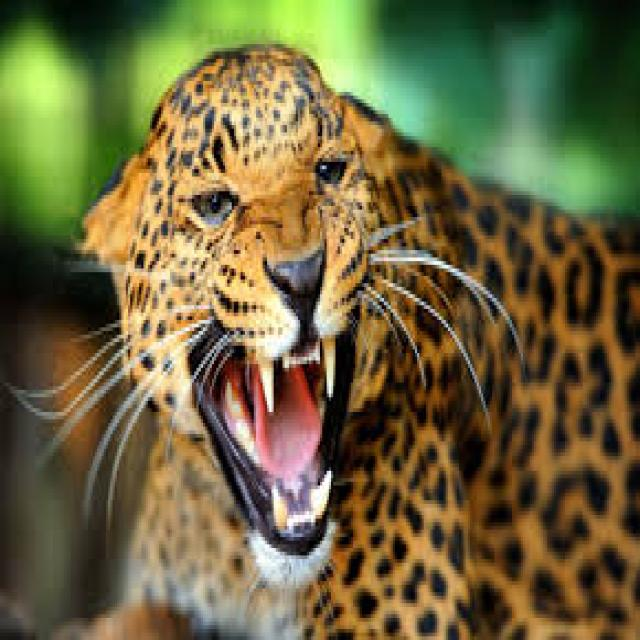Jaguar: (77, 37, 640, 640)
